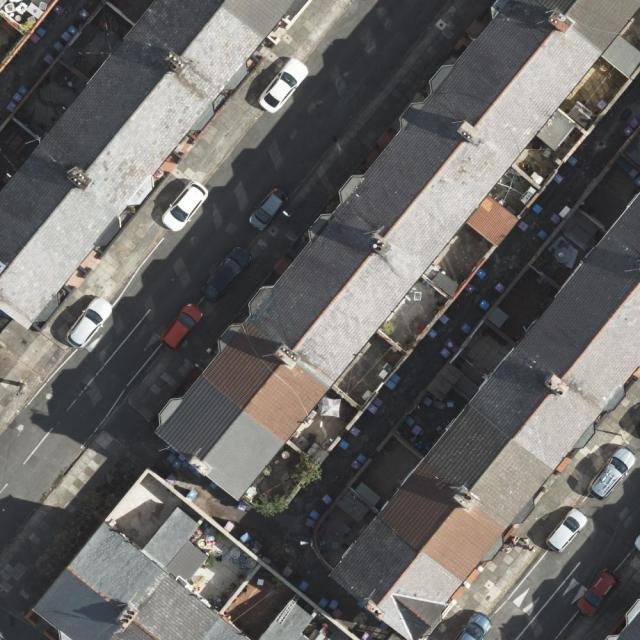roof: (152, 0, 640, 509), (327, 180, 640, 640), (0, 0, 298, 333), (28, 504, 253, 640), (257, 597, 318, 639)
